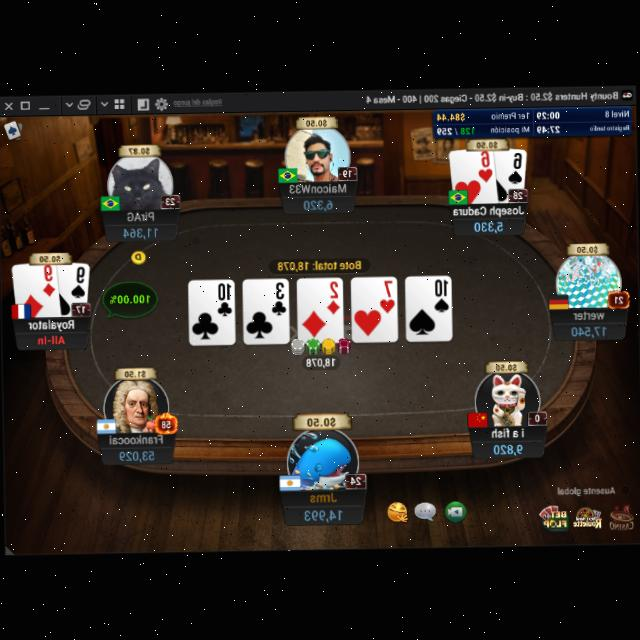2d: (324, 278, 341, 316)
3c: (270, 280, 288, 318)
6h: (477, 150, 494, 182)
6s: (506, 150, 525, 185)
7h: (378, 278, 396, 314)
9d: (40, 264, 57, 298)
9s: (68, 262, 88, 298)
Tc: (214, 280, 233, 317)
Td: (40, 262, 57, 296)
Ts: (431, 276, 450, 312)
all_in_symbol: (36, 332, 66, 346)
bet_text: (304, 354, 336, 368)
dealer: (130, 248, 146, 264)
pot_text: (276, 258, 362, 270)
stack_text: (302, 505, 344, 523), (124, 224, 158, 240), (570, 322, 606, 337), (118, 447, 156, 461), (301, 196, 333, 212), (473, 218, 504, 234), (493, 440, 524, 456), (122, 224, 156, 238)
